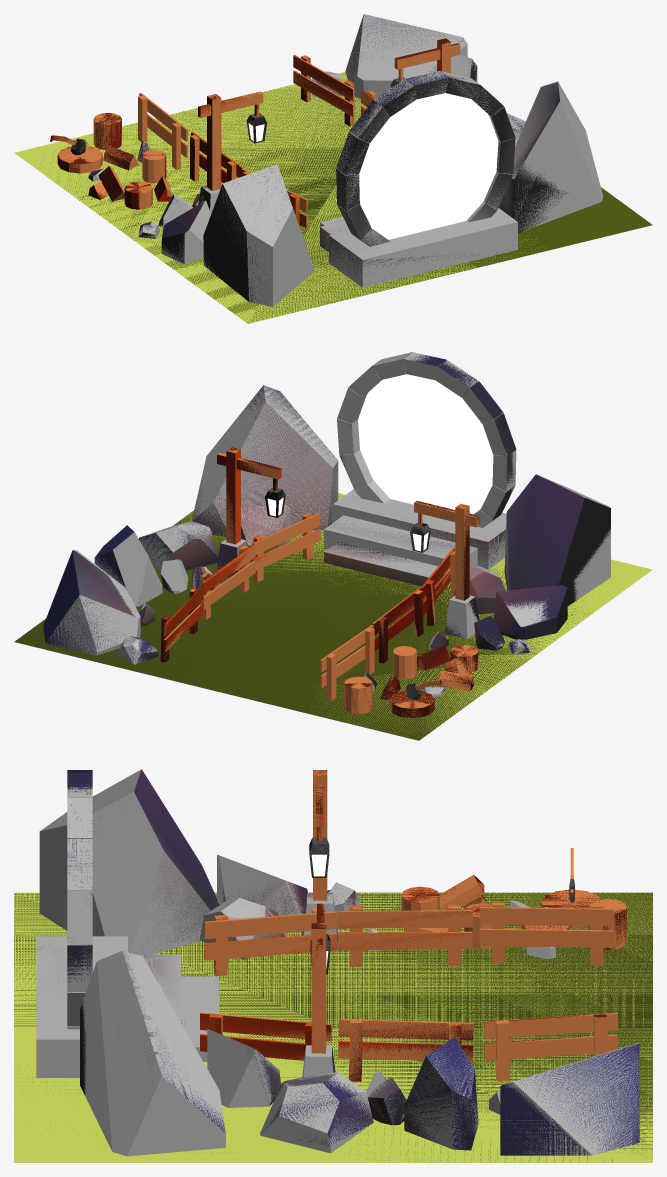
File: withVertexColor.glb
The picture shows the model from 3 angles, top to bottom: view 1: azimuth 30°, elevation 25°; view 2: azimuth 150°, elevation 25°; view 3: azimuth 270°, elevation 25°; orthographic projection. The views are drawn at different scales.
Parts seen in each view (by area): view 1: Cube.048, Plane, Circle, Cube.013, Cube.030, Cube.015, Cube.016, Cube, Cube.007, Cube.025, Cube.002, Cube.005 (+9 smaller); view 2: Cube.048, Circle, Cube.015, Plane, Cube.030, Cube.016, Cube.044, Cube.019, Cube.004, Cube, Cube.007, Cube.018 (+19 smaller); view 3: Cube.048, Plane, Cube.015, Cube.013, Cube.016, Cube.030, Cube, Cube.049, Cube.018, Cube.002, Cube.001, Cube.003 (+19 smaller).
Part boxes in pixels (box(x1,y1,x2,y2)): Cube.048: box(50, 14, 652, 323); Plane: box(14, 72, 547, 323); Circle: box(359, 93, 498, 239); Cube.013: box(203, 164, 314, 306); Cube.030: box(329, 208, 517, 287); Cube.015: box(512, 81, 603, 232); Cube.016: box(345, 14, 467, 98); Cube: box(138, 93, 187, 169); Cube.007: box(199, 91, 263, 190); Cube.025: box(161, 200, 211, 264); Cube.002: box(293, 55, 354, 126); Cube.005: box(394, 41, 460, 80); Cube.048: box(14, 352, 610, 740); Circle: box(358, 374, 493, 514); Cube.015: box(192, 385, 338, 536); Plane: box(174, 493, 652, 736); Cube.030: box(333, 489, 506, 569); Cube.016: box(48, 550, 140, 655); Cube.044: box(324, 515, 477, 574); Cube.019: box(94, 532, 162, 606); Cube.004: box(252, 513, 320, 582); Cube: box(320, 625, 374, 700); Cube.007: box(414, 501, 479, 600); Cube.018: box(139, 521, 212, 570); Cube.048: box(14, 769, 652, 1162); Plane: box(14, 892, 652, 1162); Cube.015: box(82, 951, 225, 1156); Cube.013: box(39, 769, 210, 954); Cube.016: box(501, 1042, 639, 1155); Cube.030: box(36, 936, 127, 1077); Cube: box(479, 902, 614, 965); Cube.049: box(337, 905, 472, 966); Cube.018: box(260, 1072, 373, 1153); Cube.002: box(483, 1012, 618, 1081); Cube.001: box(204, 908, 337, 976); Cube.003: box(338, 1019, 473, 1081).
Size of the model in its own units: 4 by 1.72 by 4.
